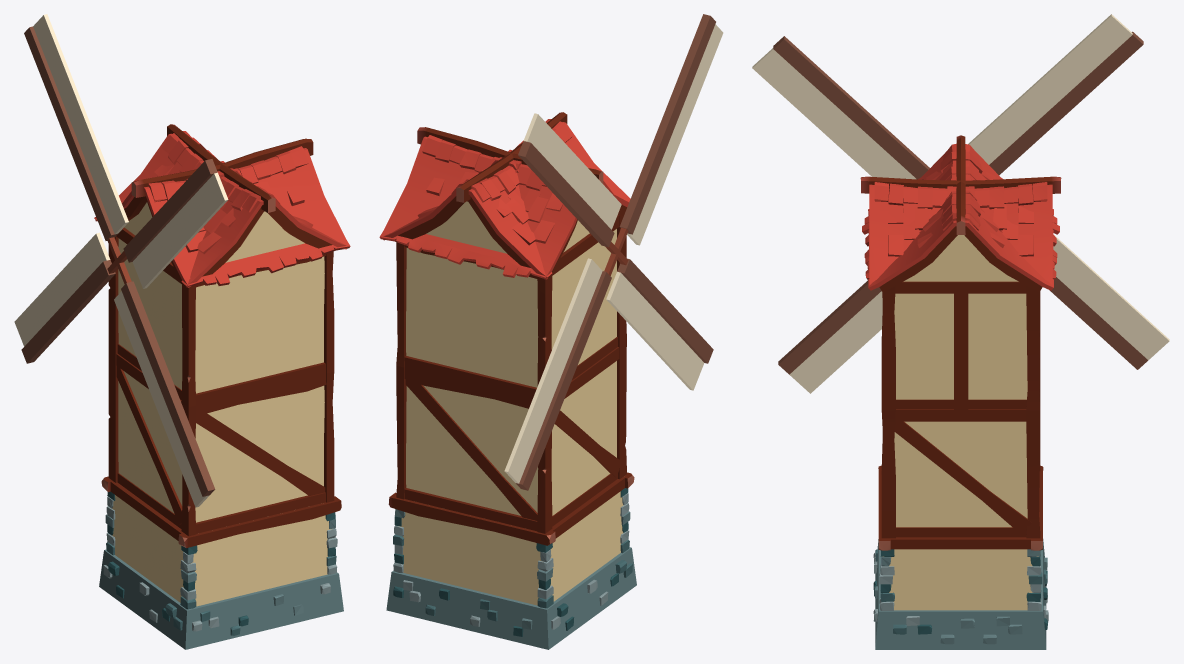
The model's file is SM_Windmill.fbx.
The picture shows the model from 3 angles, left to right: view 1: azimuth 30°, elevation 25°; view 2: azimuth 150°, elevation 25°; view 3: azimuth 270°, elevation 25°; orthographic projection. The views are drawn at different scales.
Parts seen in each view (by area): view 1: Cube.032, Cube.038; view 2: Cube.032, Cube.038; view 3: Cube.032, Cube.038.
Part boxes in pixels (x1,y1,x2,y2): Cube.032: (94, 124, 350, 649); Cube.038: (14, 14, 228, 507); Cube.032: (379, 112, 636, 649); Cube.038: (504, 14, 723, 490); Cube.032: (860, 135, 1061, 649); Cube.038: (752, 14, 1169, 393).
Bounding box in the file's own units: 374 × 1013 × 699.
